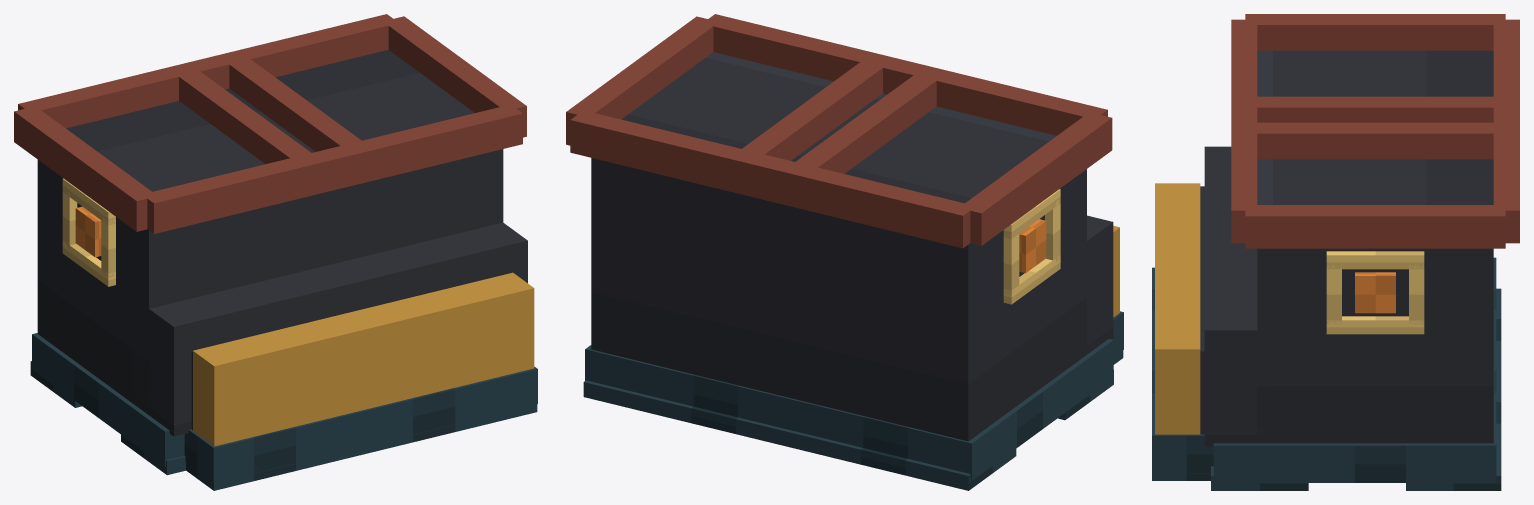
Rendered from jindan_jinwu_boots.obj.
3 views of the same model, side by side, from view 1: azimuth 30°, elevation 25°; view 2: azimuth 150°, elevation 25°; view 3: azimuth 270°, elevation 25° (orthographic). The views are drawn at different scales.
Visible parts, largest first — view 1: boot_shaft_-1, boot_shaft_1, boot_toe_cap_-1, boot_toe_cap_1, boot_instep_-1, boot_cuff_front_-1, boot_instep_1, boot_cuff_front_1, boot_toe_welt_-1, boot_cuff_side_-1_-1, boot_cuff_back_-1, boot_welt_-1 (+13 smaller); view 2: boot_shaft_-1, boot_shaft_1, boot_welt_-1, boot_cuff_back_-1, boot_cuff_back_1, boot_cuff_side_-1_-1, boot_welt_1, boot_cuff_front_1, boot_cuff_front_-1, boot_cuff_side_1_1, boot_cuff_side_1_-1, boot_cuff_side_-1_1 (+9 smaller); view 3: boot_shaft_1, boot_instep_1, boot_welt_1, boot_cuff_side_1_1, boot_shaft_-1, boot_cuff_side_1_-1, boot_cuff_side_-1_-1, boot_toe_cap_1, boot_cuff_side_-1_1, boot_toe_cap_-1, boot_cuff_back_1, boot_cuff_front_1 (+16 smaller).
Boxes of the visible parts, x1=… form: boot_shaft_-1: x1=37, y1=88, x2=343, y2=414; boot_shaft_1: x1=276, y1=50, x2=503, y2=269; boot_toe_cap_-1: x1=193, y1=311, x2=374, y2=446; boot_toe_cap_1: x1=354, y1=272, x2=534, y2=407; boot_instep_-1: x1=134, y1=261, x2=368, y2=436; boot_cuff_front_-1: x1=142, y1=146, x2=363, y2=233; boot_instep_1: x1=333, y1=222, x2=527, y2=315; boot_cuff_front_1: x1=308, y1=106, x2=522, y2=194; boot_toe_welt_-1: x1=184, y1=407, x2=378, y2=482; boot_cuff_side_-1_-1: x1=14, y1=106, x2=157, y2=231; boot_cuff_back_-1: x1=18, y1=53, x2=237, y2=128; boot_welt_-1: x1=32, y1=333, x2=184, y2=466; boot_shaft_-1: x1=761, y1=93, x2=1086, y2=441; boot_shaft_1: x1=591, y1=52, x2=833, y2=395; boot_welt_-1: x1=755, y1=339, x2=1113, y2=480; boot_cuff_back_-1: x1=740, y1=152, x2=970, y2=248; boot_cuff_back_1: x1=570, y1=112, x2=802, y2=206; boot_cuff_side_-1_-1: x1=959, y1=112, x2=1112, y2=245; boot_welt_1: x1=585, y1=345, x2=802, y2=432; boot_cuff_front_1: x1=704, y1=14, x2=937, y2=81; boot_cuff_front_-1: x1=877, y1=58, x2=1107, y2=135; boot_cuff_side_1_1: x1=566, y1=16, x2=718, y2=145; boot_cuff_side_1_-1: x1=736, y1=60, x2=885, y2=160; boot_cuff_side_-1_1: x1=789, y1=73, x2=941, y2=173; boot_shaft_1: x1=1257, y1=159, x2=1493, y2=443; boot_instep_1: x1=1204, y1=229, x2=1288, y2=446; boot_welt_1: x1=1213, y1=363, x2=1496, y2=482; boot_cuff_side_1_1: x1=1245, y1=205, x2=1505, y2=248; boot_shaft_-1: x1=1257, y1=50, x2=1493, y2=96; boot_cuff_side_1_-1: x1=1245, y1=122, x2=1505, y2=159; boot_cuff_side_-1_-1: x1=1245, y1=14, x2=1505, y2=50; boot_toe_cap_1: x1=1155, y1=267, x2=1200, y2=434; boot_cuff_side_-1_1: x1=1245, y1=96, x2=1505, y2=122; boot_toe_cap_-1: x1=1155, y1=183, x2=1200, y2=266; boot_cuff_back_1: x1=1493, y1=102, x2=1519, y2=243; boot_cuff_front_1: x1=1231, y1=102, x2=1257, y2=243.
Size of the model in its own units: 0.5819 by 0.3787 by 0.4475.
